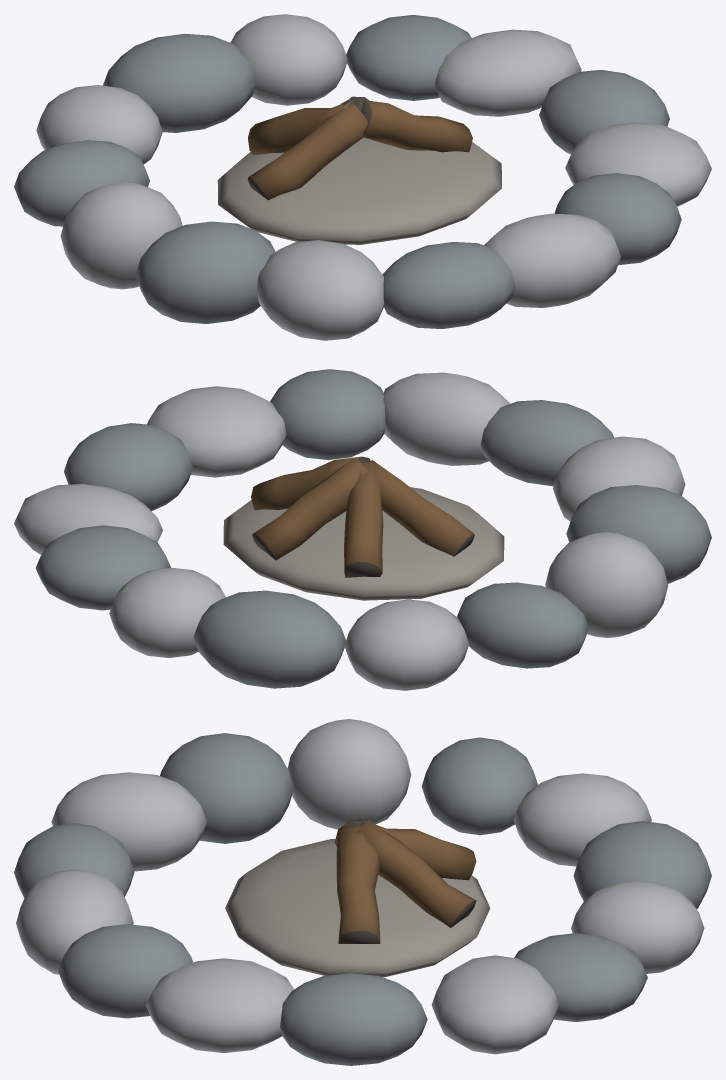
The model's file is campfire_burned.glb.
3 views of the same model, one above another, from view 1: azimuth 30°, elevation 25°; view 2: azimuth 150°, elevation 25°; view 3: azimuth 270°, elevation 25° (orthographic). The views are drawn at different scales.
Parts seen in each view (by area): view 1: ember_bed, ring_stone_8, ring_stone_4, ring_stone_9, ring_stone_1, ring_stone_10, ring_stone_11, ring_stone_7, ring_stone_3, ring_stone_13, ring_stone_2, ring_stone_12 (+6 smaller); view 2: ember_bed, ring_stone_4, ring_stone_7, ring_stone_5, ring_stone_6, ring_stone_11, ring_stone_13, ring_stone_12, ring_stone_8, ring_stone_0, ring_stone_2, ring_stone_10 (+7 smaller); view 3: ember_bed, ring_stone_0, ring_stone_13, ring_stone_7, ring_stone_8, ring_stone_9, ring_stone_1, ring_stone_12, ring_stone_6, ring_stone_5, ring_stone_3, ring_stone_2 (+6 smaller).
Part boxes in pixels (box(x1,y1,x2,y2)): ember_bed: box(217, 137, 501, 244); ring_stone_8: box(135, 221, 275, 323); ring_stone_4: box(103, 34, 256, 132); ring_stone_9: box(256, 240, 384, 340); ring_stone_1: box(434, 29, 581, 116); ring_stone_10: box(382, 242, 515, 328); ring_stone_11: box(484, 213, 620, 307); ring_stone_7: box(60, 182, 182, 289); ring_stone_3: box(230, 14, 347, 105); ring_stone_13: box(565, 122, 711, 206); ring_stone_2: box(346, 15, 471, 100); ring_stone_12: box(554, 173, 681, 265); ember_bed: box(223, 487, 504, 600); ring_stone_4: box(193, 590, 345, 688); ring_stone_7: box(545, 532, 668, 637); ring_stone_5: box(344, 599, 469, 690); ring_stone_6: box(457, 582, 588, 668); ring_stone_11: box(383, 372, 510, 465); ring_stone_13: box(147, 386, 286, 477); ring_stone_12: box(270, 369, 385, 459); ring_stone_8: box(566, 485, 711, 583); ring_stone_0: box(64, 423, 192, 511); ring_stone_2: box(35, 525, 170, 610); ring_stone_10: box(480, 400, 613, 486); ember_bed: box(225, 839, 490, 977); ring_stone_0: box(280, 973, 427, 1065); ring_stone_13: box(146, 958, 294, 1052); ring_stone_7: box(287, 719, 411, 829); ring_stone_8: box(160, 733, 293, 843); ring_stone_9: box(51, 772, 206, 871); ring_stone_1: box(431, 955, 558, 1054); ring_stone_12: box(58, 924, 193, 1018); ring_stone_6: box(421, 737, 537, 835); ring_stone_5: box(513, 773, 651, 866); ring_stone_3: box(571, 881, 704, 973); ring_stone_2: box(514, 933, 647, 1021).
Bounding box in the file's own units: 1.18 × 0.2295 × 1.16.
